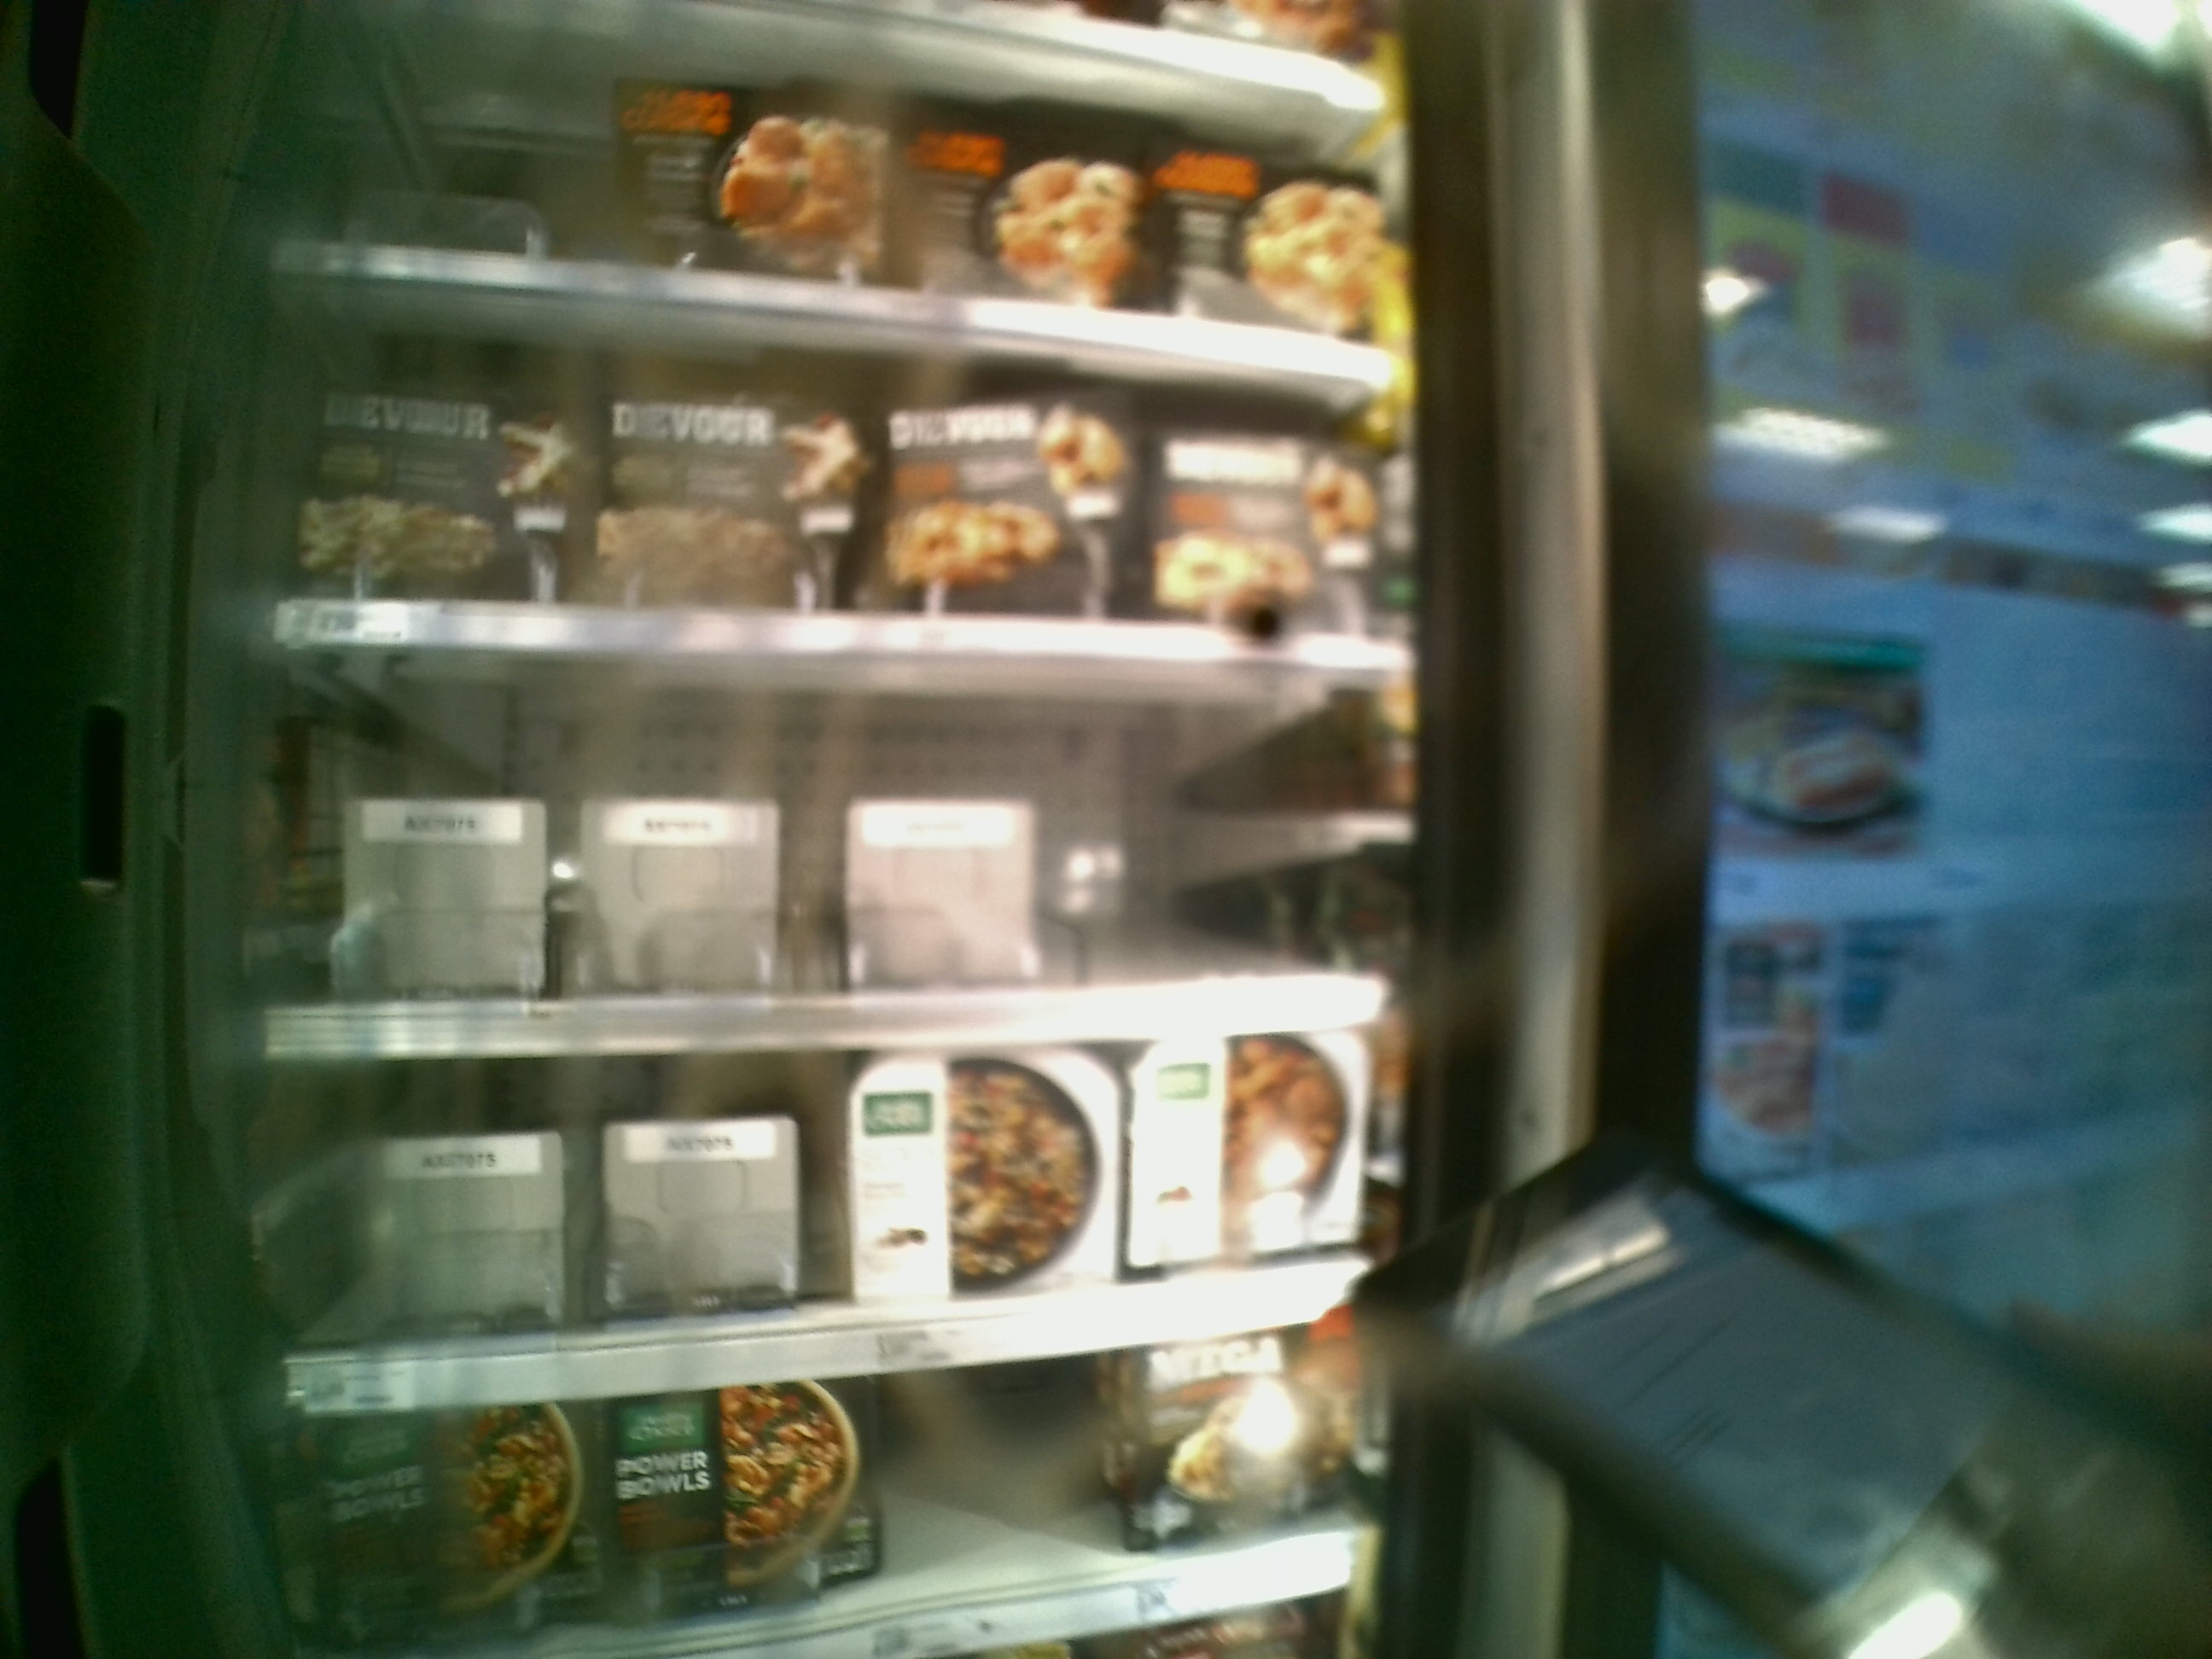shelf: (254, 647, 1411, 1054), (268, 284, 1399, 667)
